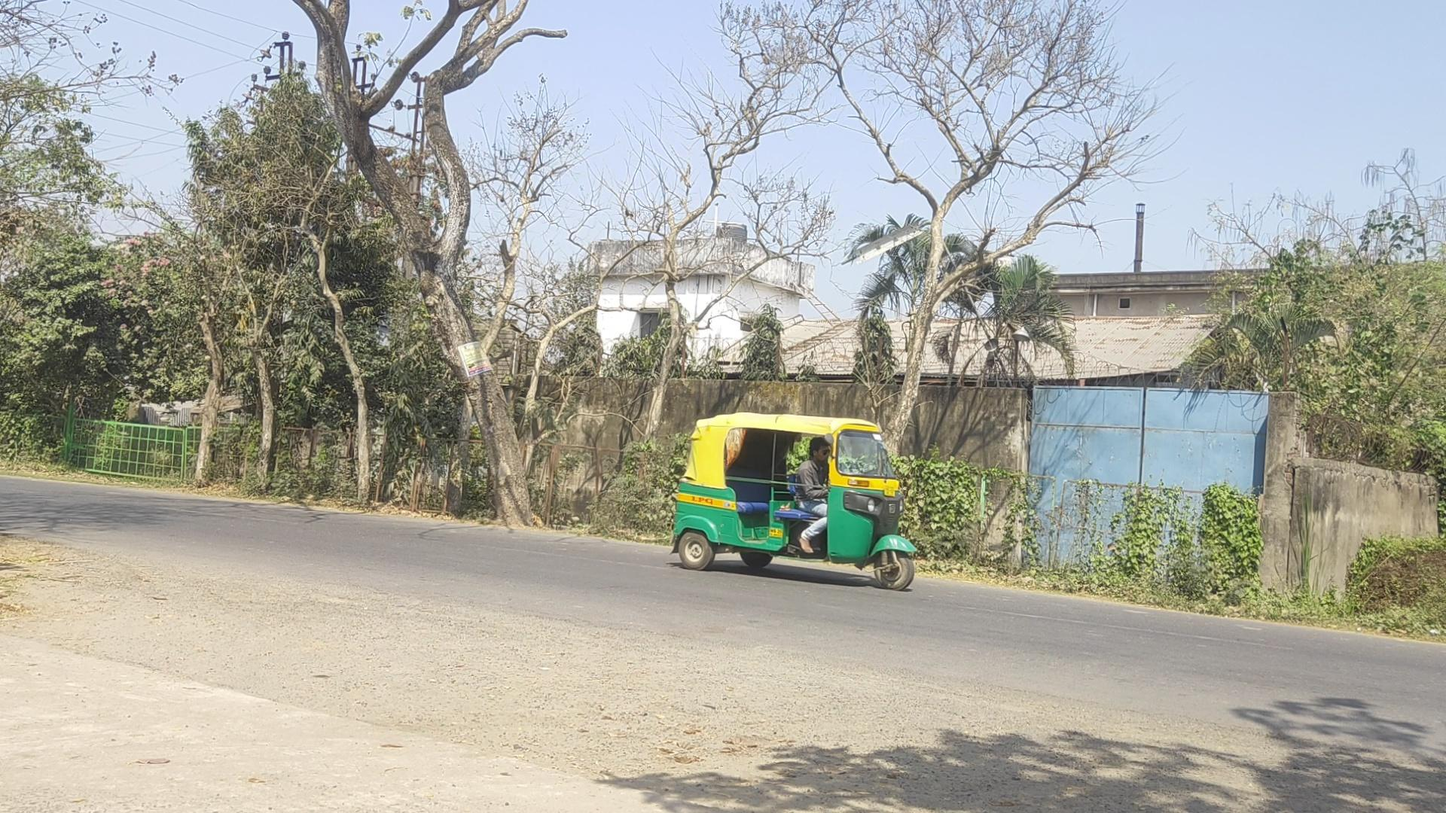Auto: (669, 412, 917, 591)
